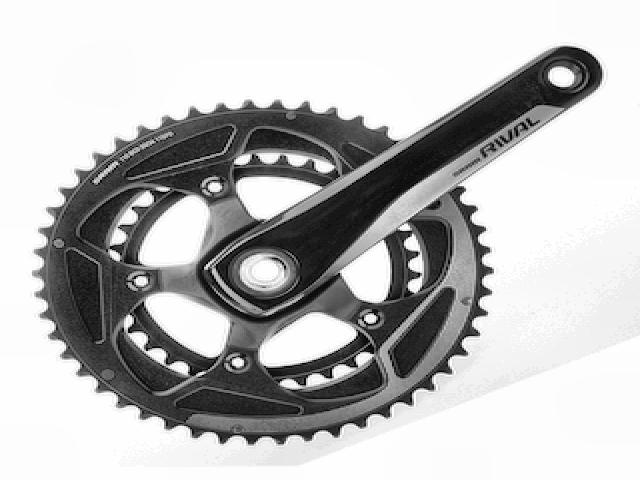cranks_set: (35, 42, 605, 442)
